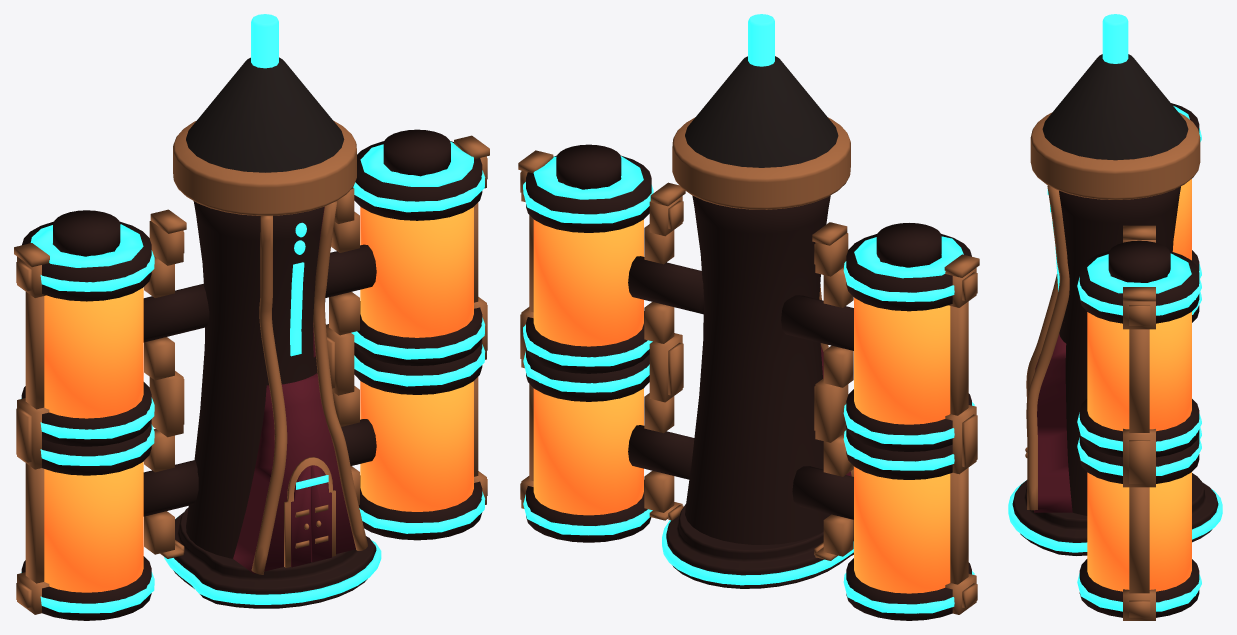
Rendered from Vat_T3.glb.
The picture shows the model from 3 angles, left to right: view 1: azimuth 30°, elevation 25°; view 2: azimuth 150°, elevation 25°; view 3: azimuth 270°, elevation 25°; orthographic projection. The views are drawn at different scales.
Parts seen in each view (by area): view 1: exNm_M_TankGoo.001, exNm_M_TankCaps.001, exNm_M_Spire, exNh_H_TankCage, exNm_M_TankNeon.001, exNm_M_Roof.001, exNh_H_SpirePilasters, exNm_M_Capital.001, exNh_H_DoorHousing, exNm_M_TankPipes.001, exNm_M_Plinth.001, exNh_H_Door_Leaves (+4 smaller); view 2: exNm_M_TankGoo.001, exNm_M_Spire, exNh_H_TankCage, exNm_M_TankCaps.001, exNm_M_TankNeon.001, exNm_M_Roof.001, exNm_M_TankPipes.001, exNm_M_Capital.001, exNm_M_Plinth.001, exNm_M_PlinthNeon.001, exNm_M_Tip.001; view 3: exNm_M_TankGoo.001, exNm_M_Roof.001, exNm_M_TankCaps.001, exNm_M_Spire, exNh_H_TankCage, exNm_M_Capital.001, exNm_M_TankNeon.001, exNh_H_DoorHousing, exNh_H_SpirePilasters, exNm_M_Plinth.001, exNm_M_PlinthNeon.001, exNm_M_Tip.001.
Boxes of the visible parts, x1,y1,x2,y2 form: exNm_M_TankGoo.001: [44, 207, 473, 592]; exNm_M_TankCaps.001: [21, 129, 482, 620]; exNm_M_Spire: [186, 201, 325, 558]; exNh_H_TankCage: [14, 135, 489, 614]; exNm_M_TankNeon.001: [21, 141, 485, 613]; exNm_M_Roof.001: [186, 57, 344, 172]; exNh_H_SpirePilasters: [251, 201, 367, 574]; exNm_M_Capital.001: [173, 120, 356, 215]; exNh_H_DoorHousing: [233, 373, 355, 573]; exNm_M_TankPipes.001: [143, 244, 376, 516]; exNm_M_Plinth.001: [173, 508, 376, 608]; exNh_H_Door_Leaves: [291, 465, 331, 567]; exNm_M_TankGoo.001: [533, 219, 950, 593]; exNm_M_Spire: [685, 195, 830, 544]; exNh_H_TankCage: [518, 150, 979, 614]; exNm_M_TankCaps.001: [526, 144, 971, 620]; exNm_M_TankNeon.001: [523, 156, 974, 613]; exNm_M_Roof.001: [685, 56, 838, 167]; exNm_M_TankPipes.001: [628, 256, 853, 519]; exNm_M_Capital.001: [672, 117, 850, 209]; exNm_M_Plinth.001: [666, 504, 853, 588]; exNm_M_PlinthNeon.001: [662, 520, 853, 585]; exNm_M_Tip.001: [748, 14, 774, 66]; exNm_M_TankGoo.001: [1087, 179, 1191, 591]; exNm_M_Roof.001: [1042, 54, 1188, 160]; exNm_M_TankCaps.001: [1079, 103, 1199, 617]; exNm_M_Spire: [1059, 186, 1180, 515]; exNh_H_TankCage: [1123, 225, 1155, 620]; exNm_M_Capital.001: [1030, 112, 1200, 199]; exNm_M_TankNeon.001: [1077, 106, 1201, 611]; exNh_H_DoorHousing: [1034, 333, 1072, 512]; exNh_H_SpirePilasters: [1026, 185, 1069, 510]; exNm_M_Plinth.001: [1012, 473, 1218, 555]; exNm_M_PlinthNeon.001: [1008, 481, 1222, 552]; exNm_M_Tip.001: [1102, 14, 1128, 63].
Size of the model in its own units: 6.48 by 7.32 by 2.84.
